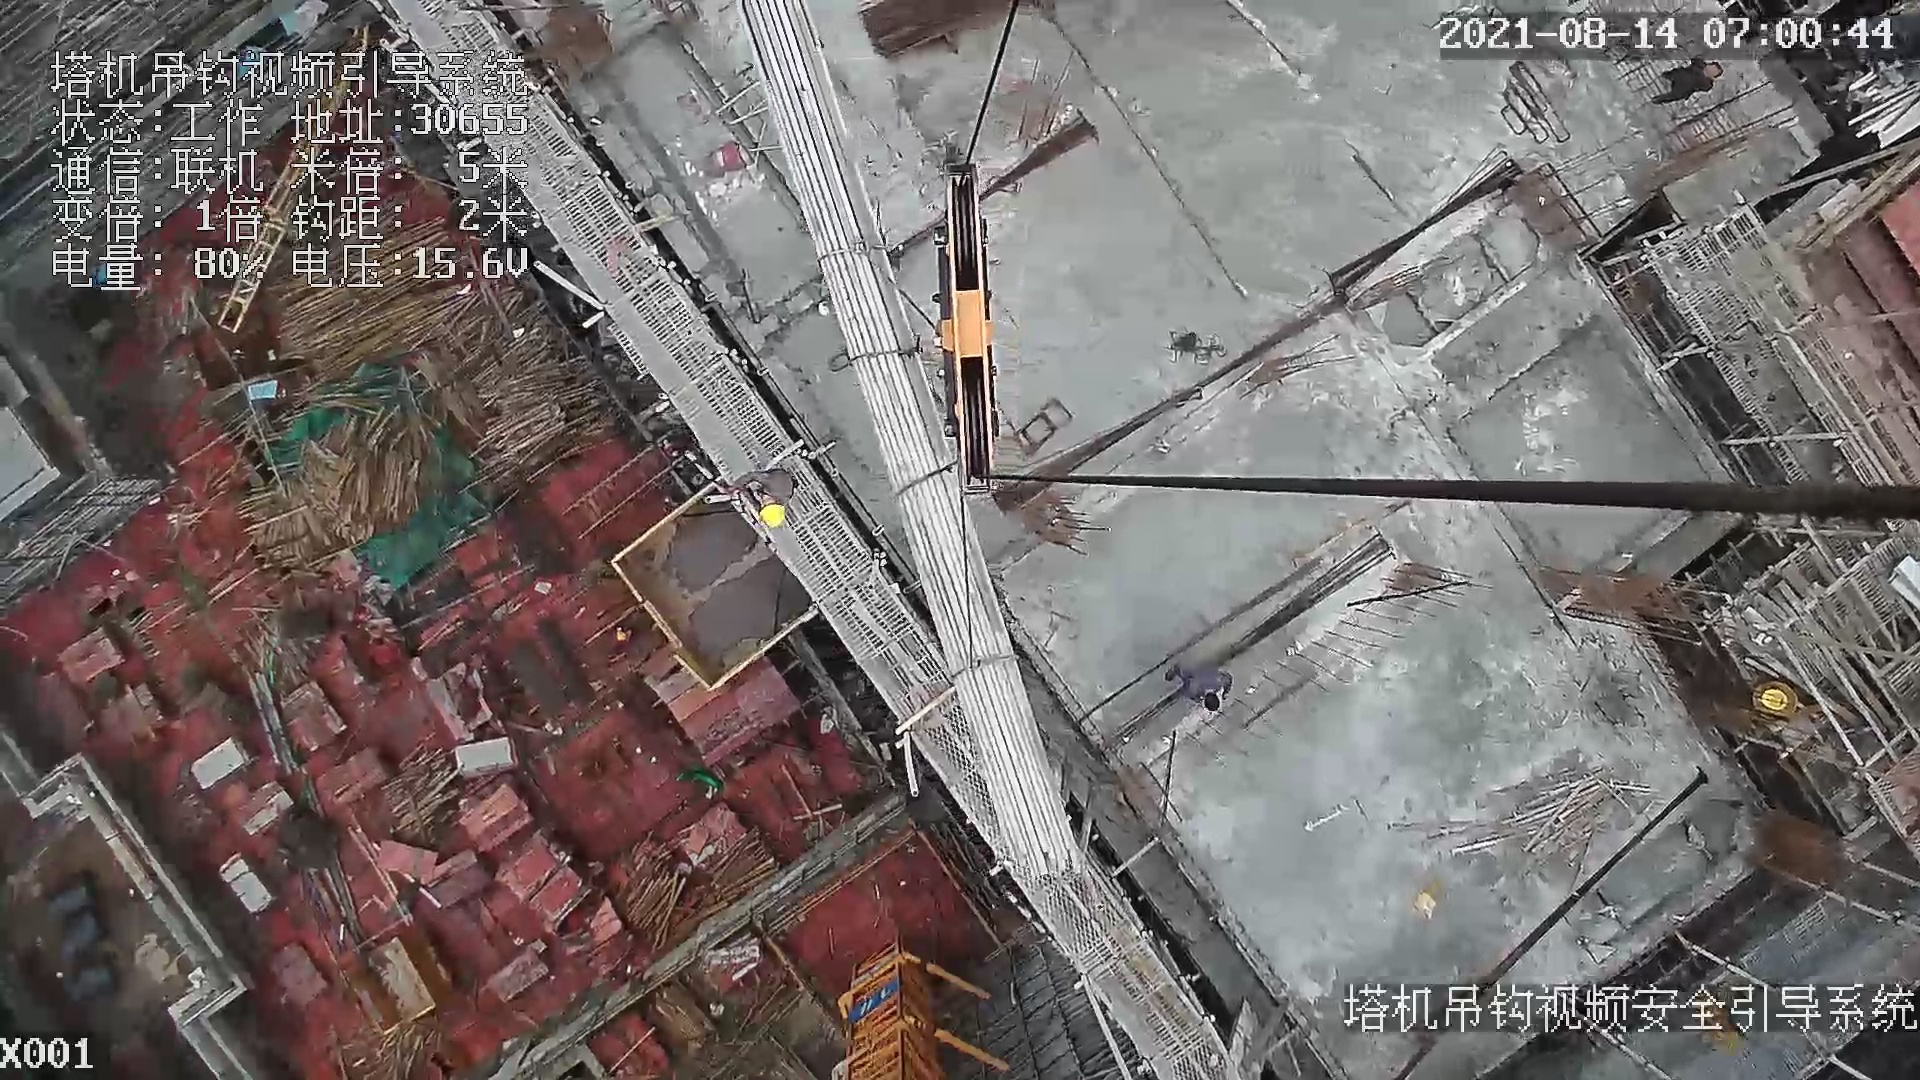helmet: (758, 496, 790, 533)
hook: (922, 160, 1012, 506)
person: (728, 460, 797, 530), (1156, 659, 1237, 717)
